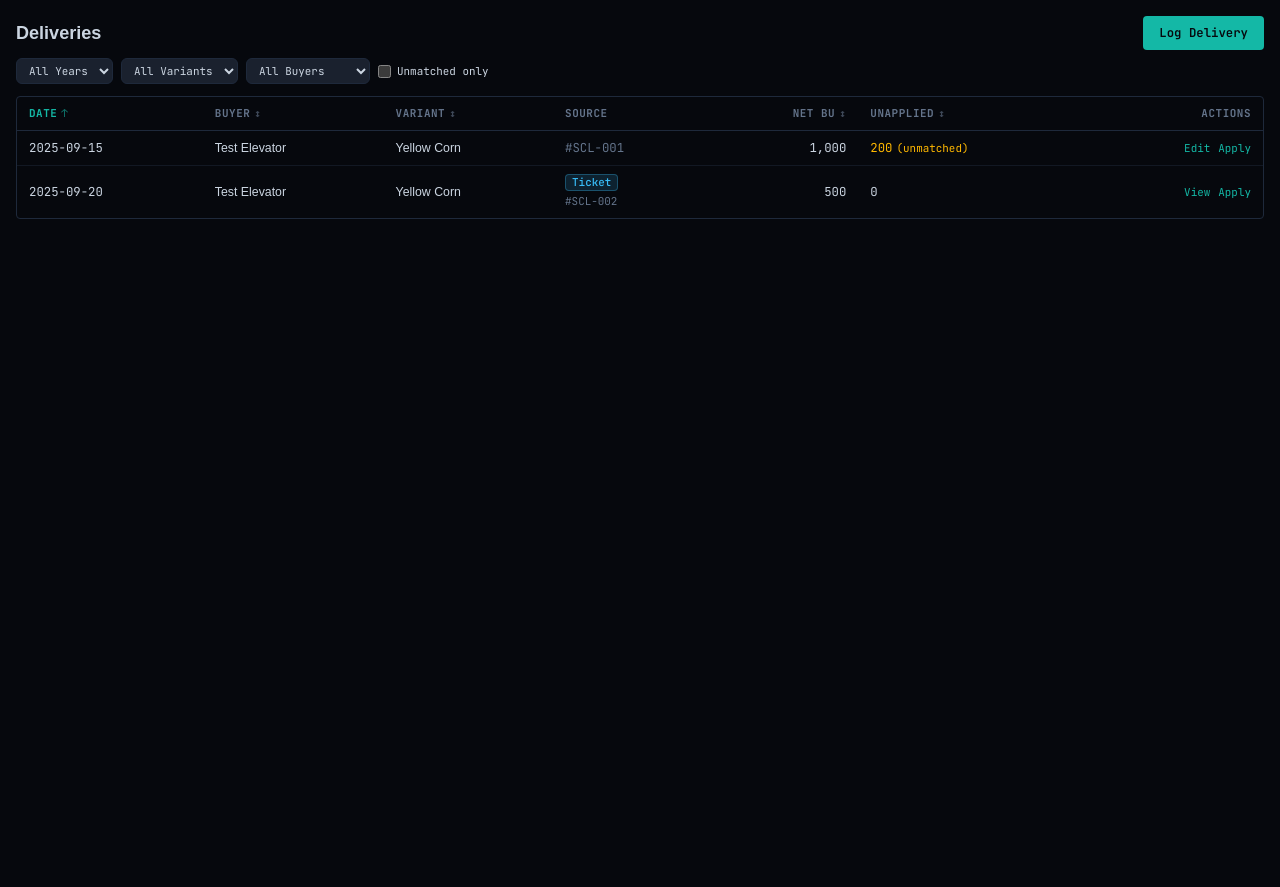
Scenario: DeliveryListClient › Log Delivery button opens the drawer
This screenshot has width=1280, height=887.
Click the button "Log Delivery". click: (1204, 33)
box: [1143, 16, 1264, 50]
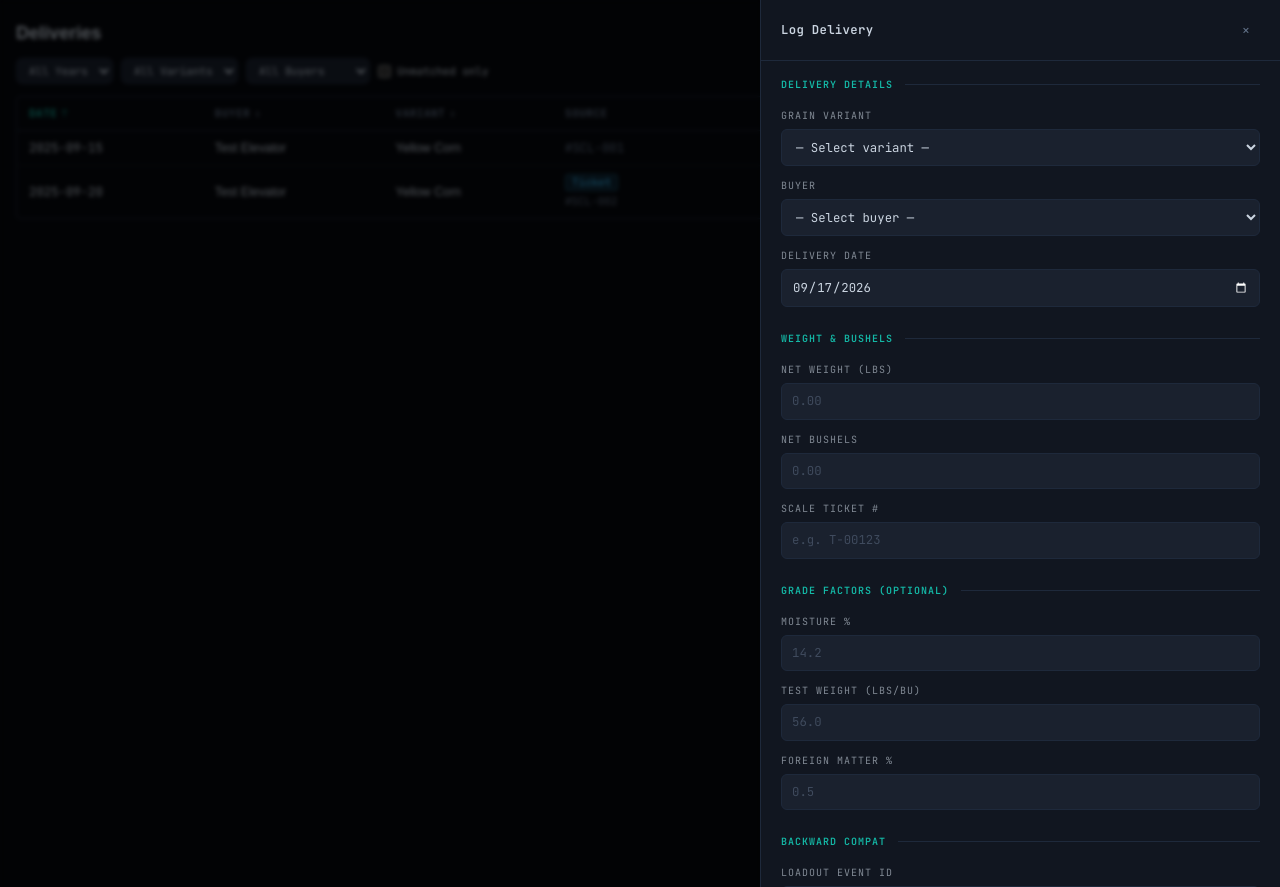
Expected: the text "Delivery Details" is shown, [781, 77, 893, 92]
